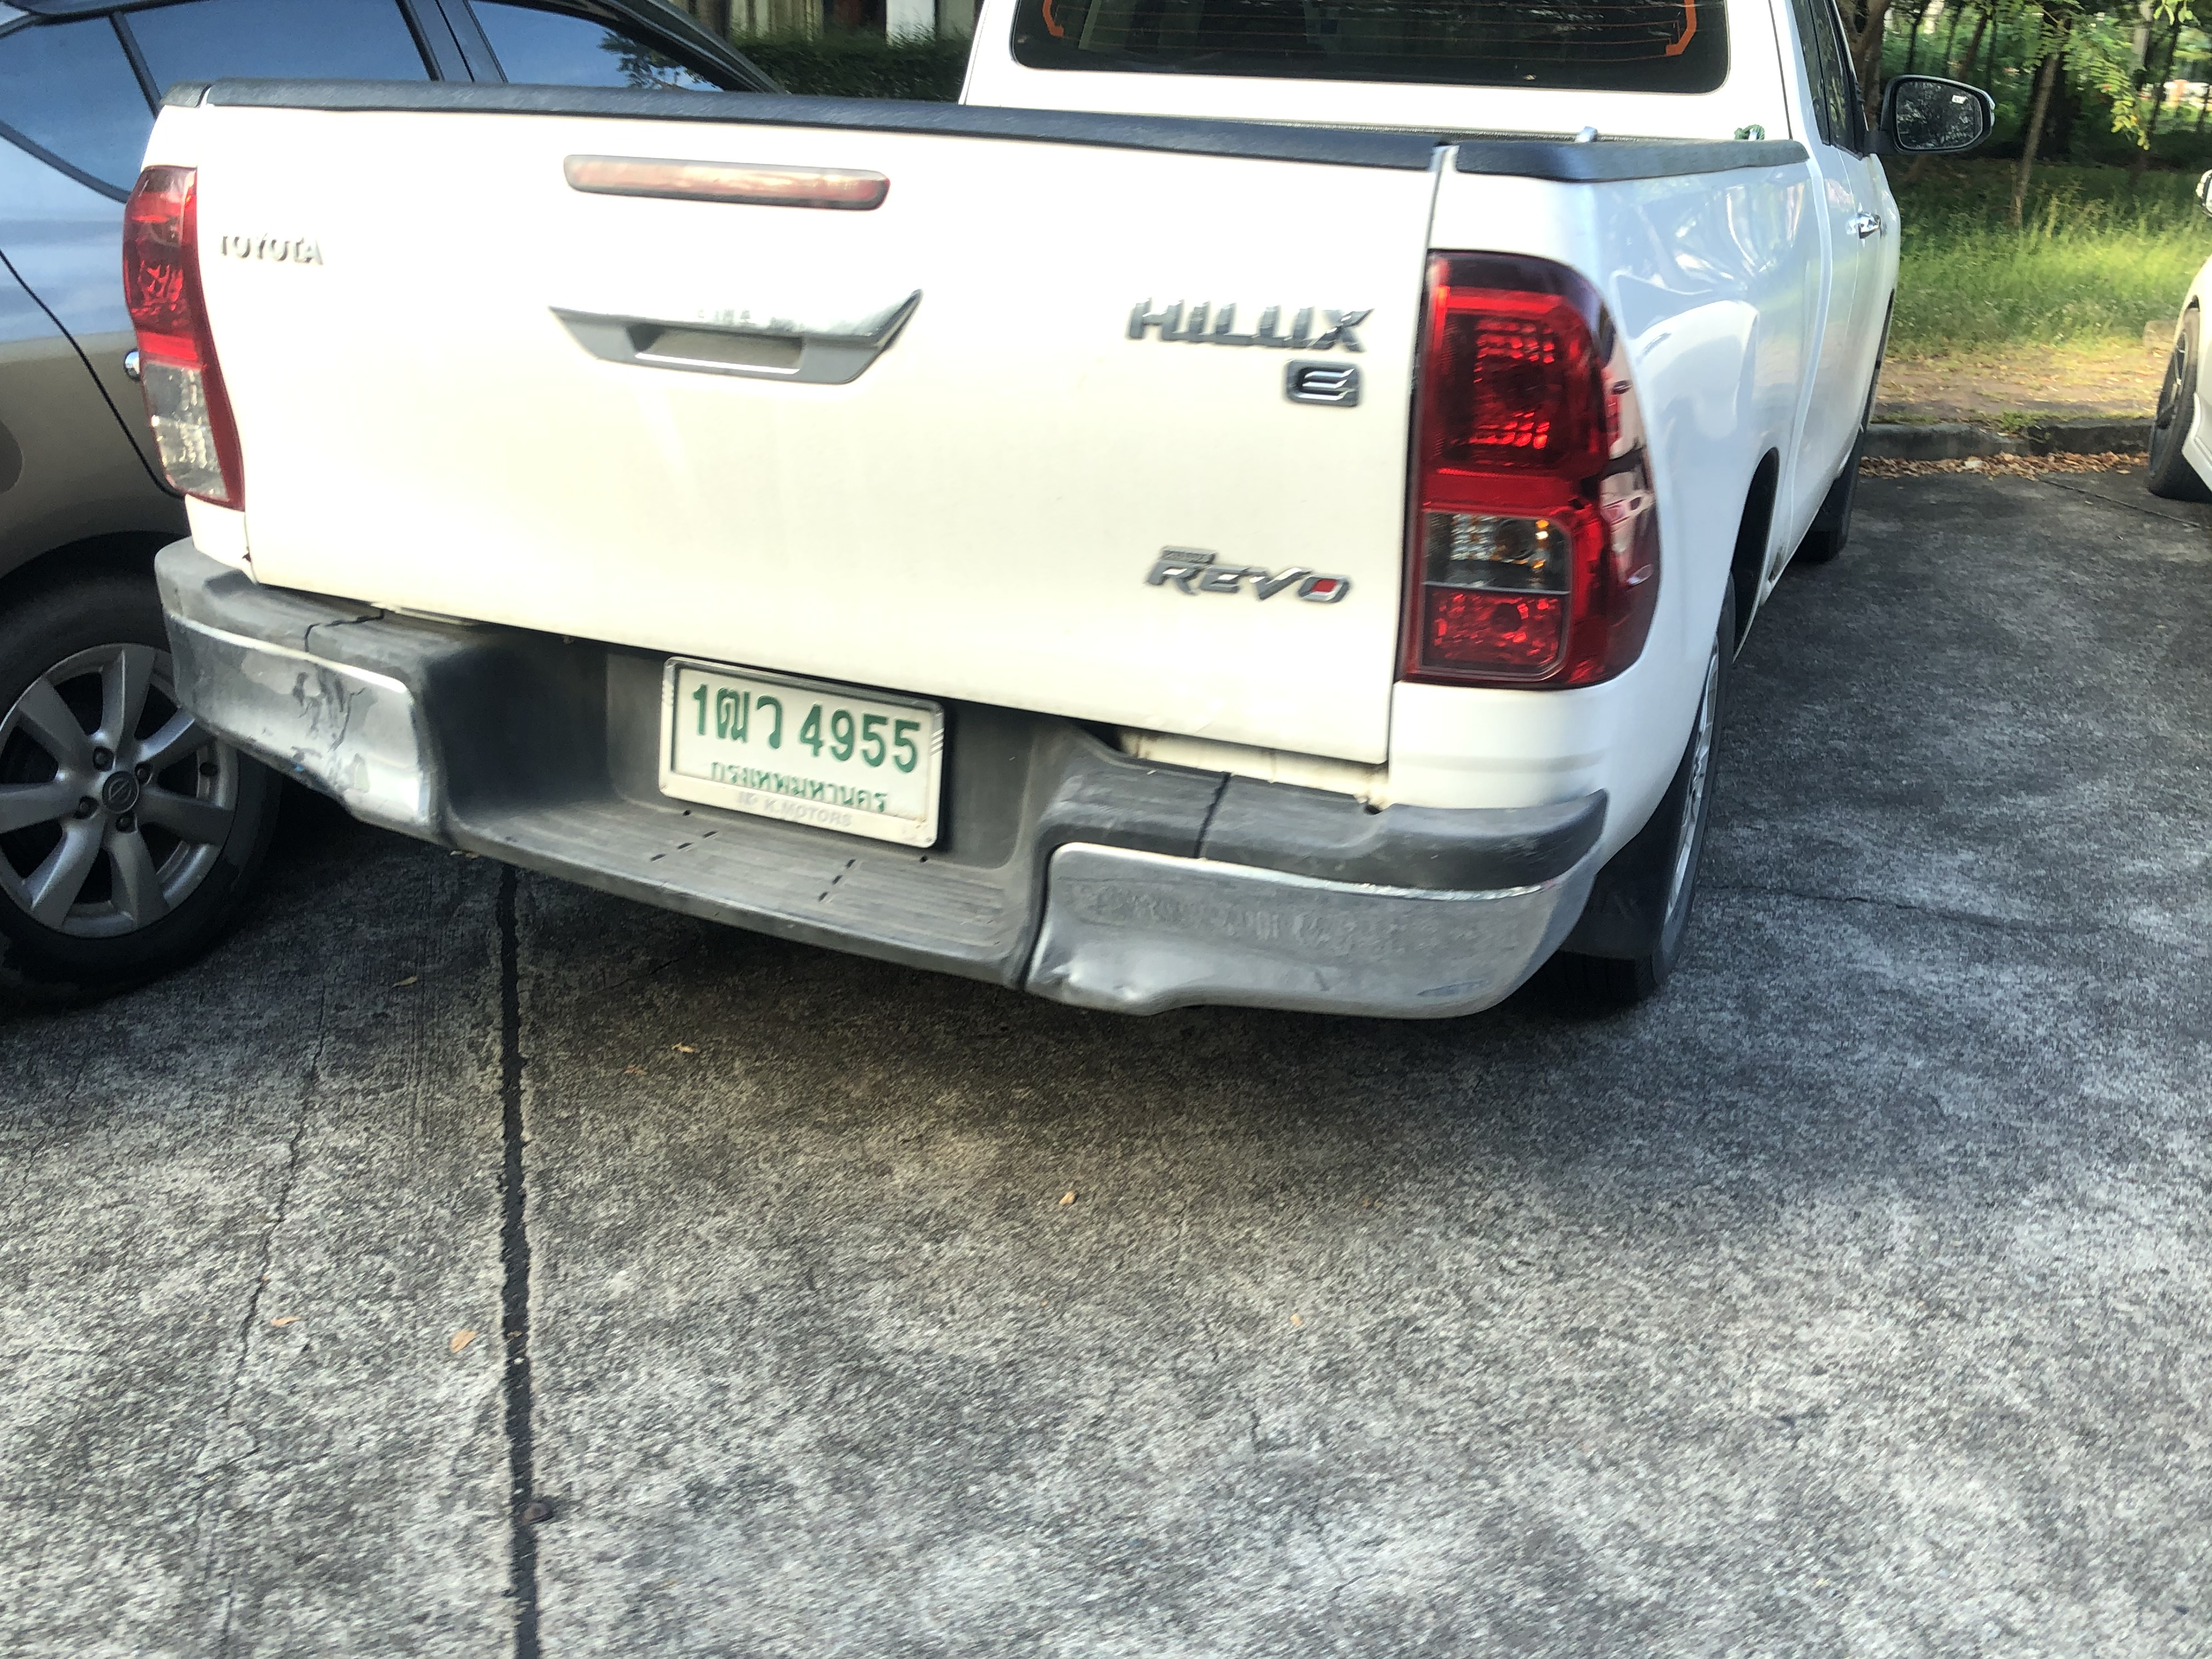in: (672, 662, 928, 817)
out: (651, 633, 953, 857)
